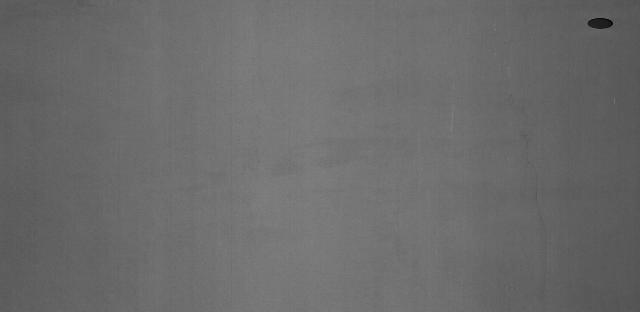punching_hole: (585, 14, 618, 31)
